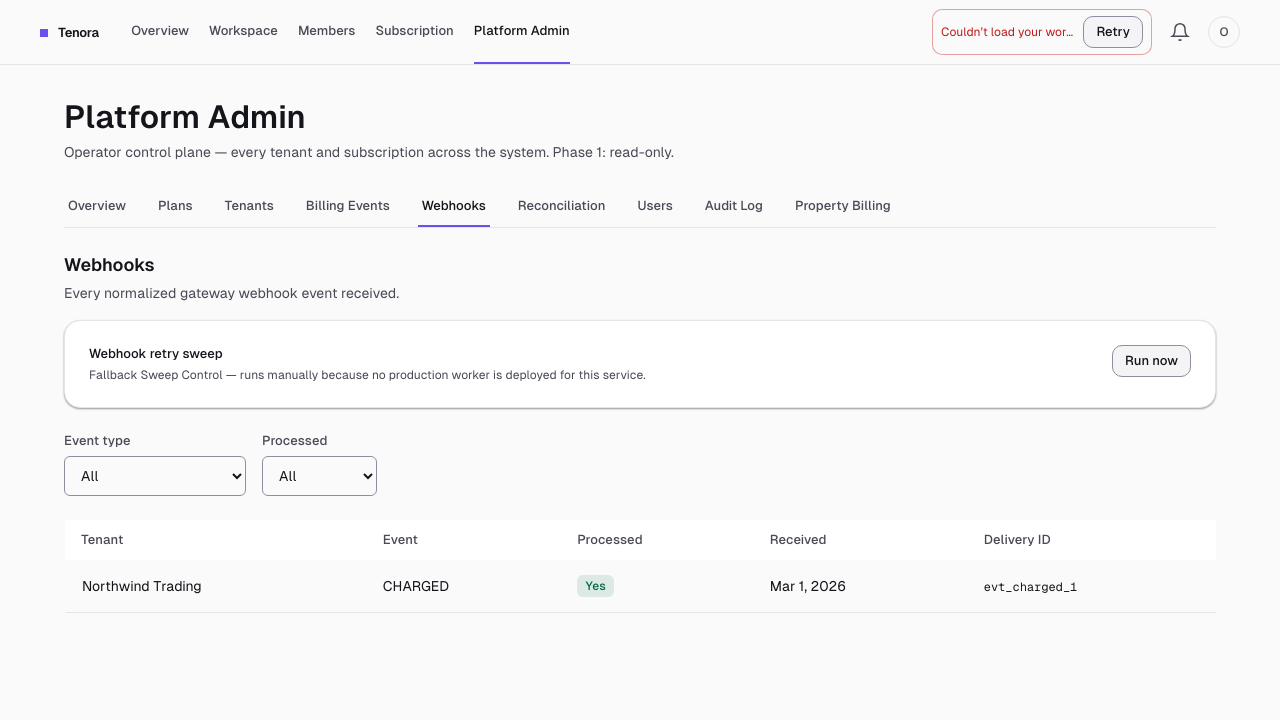
Test case: WebhooksPage — fallback sweep control (Phase 2) › canceling makes no request
Expected: the text "Fallback Sweep Control" is shown, [89,368,646,382]
Click the button "Run now" at (1152, 361), box [1112,345,1191,377]
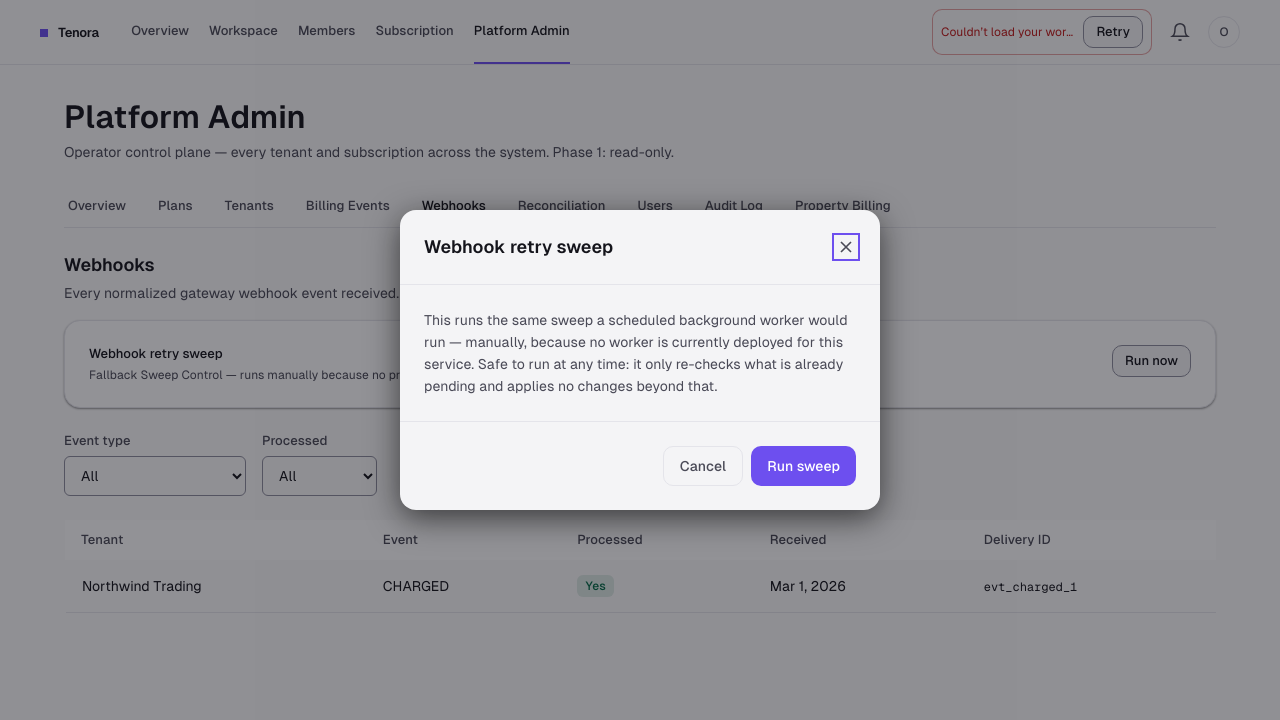
Expected: the dialog "Webhook retry sweep" is shown, [400,210,880,510]
Click the button "Cancel" at (703, 466), box [663,446,743,486]
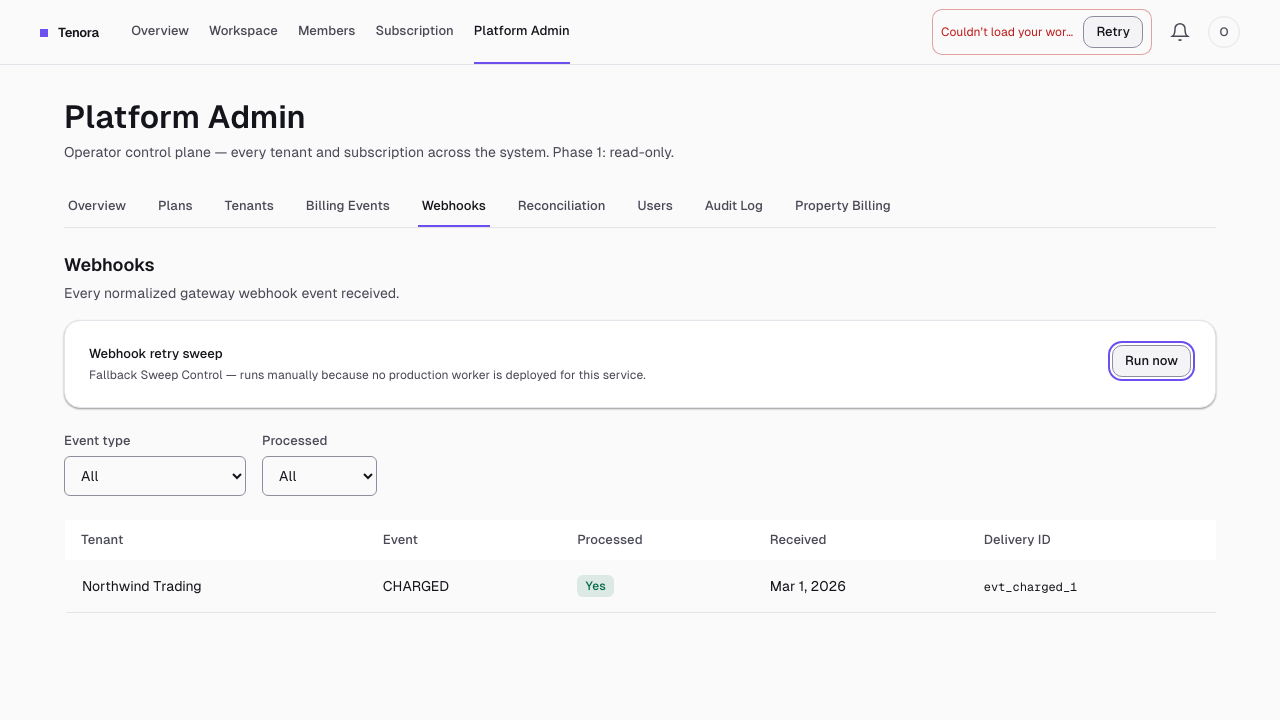
Expected: the dialog is gone
